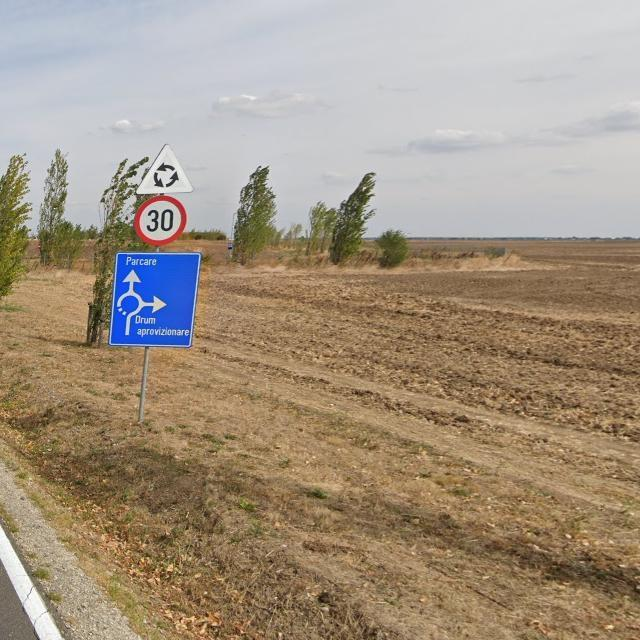forb_speed_over_30: (135, 196, 187, 246)
